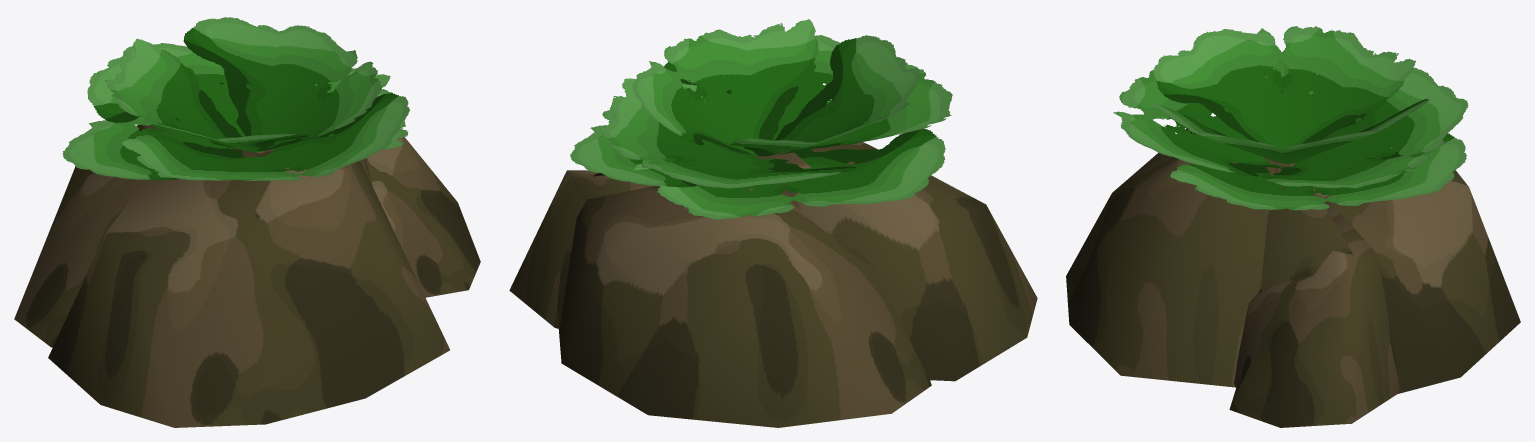
File: Lettuce Coral 1_preview_3DS_simplified.glb
3 renders of one model, left to right at view 1: azimuth 30°, elevation 25°; view 2: azimuth 150°, elevation 25°; view 3: azimuth 270°, elevation 25°, orthographic. The views are drawn at different scales.
Visible parts, largest first — view 1: Marine Park Empire model; view 2: Marine Park Empire model; view 3: Marine Park Empire model.
Boxes of the visible parts, x1,y1,x2,y2 form: Marine Park Empire model: (14, 17, 480, 427); Marine Park Empire model: (509, 19, 1037, 427); Marine Park Empire model: (1066, 26, 1520, 427).
Bounding box in the file's own units: 36.88 × 20.18 × 34.58.
2 materials, 2 textured.
